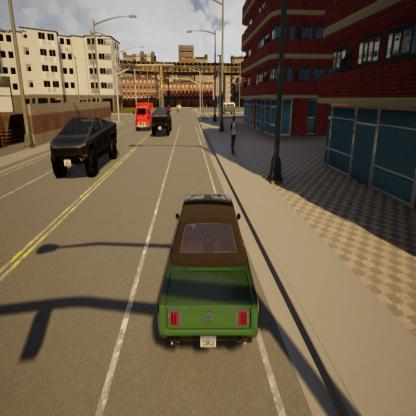Cars: (150, 186, 267, 356), (49, 111, 123, 185), (151, 106, 175, 140), (134, 102, 154, 134), (219, 101, 236, 116)
Pedestrian: (227, 113, 241, 160)
